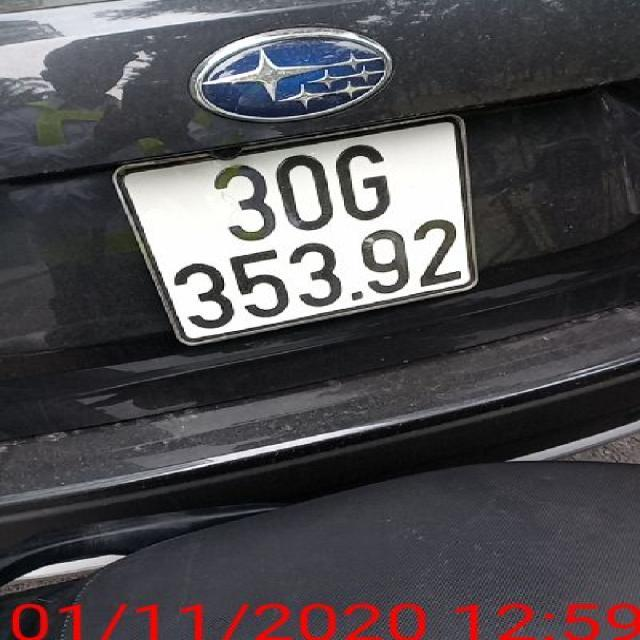bien_so_oto: (111, 115, 484, 348)
